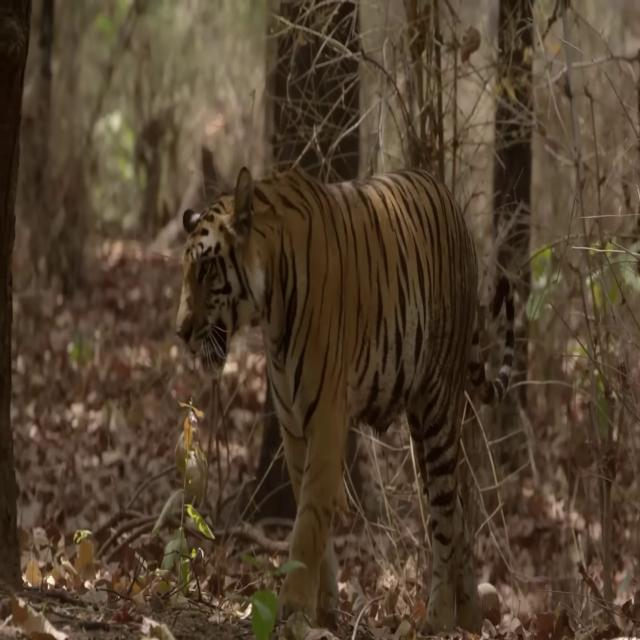tiger: (174, 163, 516, 640)
